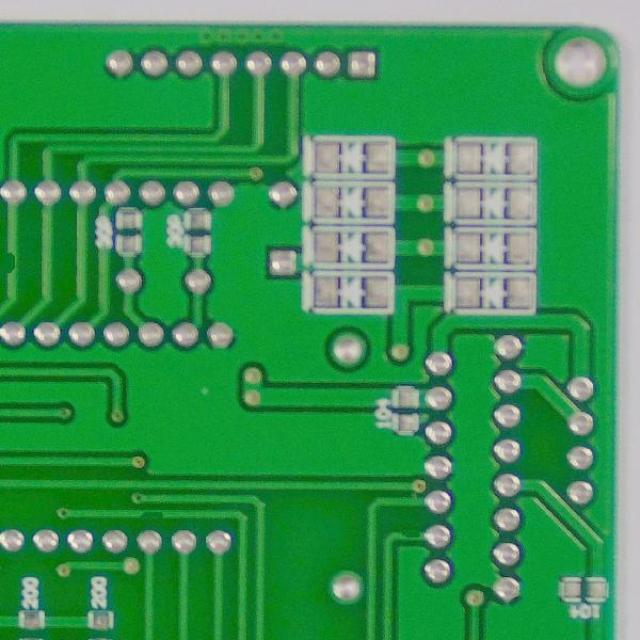MouseBite: (2, 246, 23, 278), (133, 506, 170, 520), (397, 525, 424, 543)
